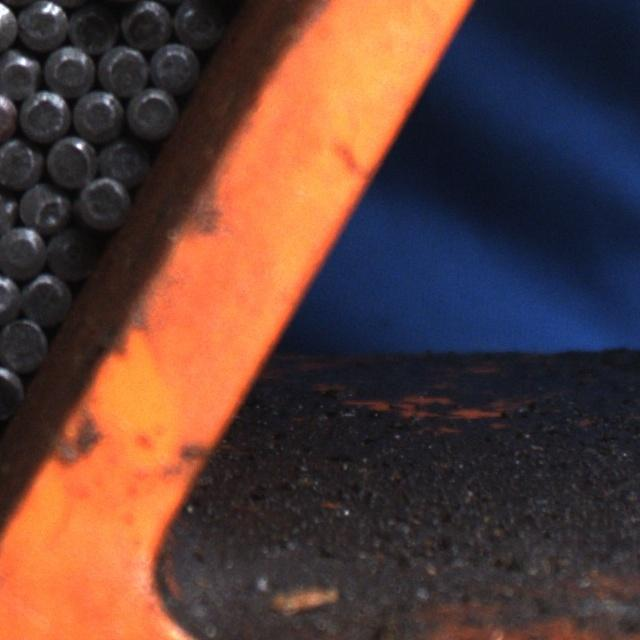tool: (72, 175, 130, 230), (71, 87, 123, 139), (22, 270, 74, 322), (45, 226, 97, 278), (43, 134, 94, 185), (98, 42, 148, 94), (44, 42, 95, 92), (18, 89, 68, 140), (126, 87, 176, 138), (67, 0, 118, 50), (93, 139, 144, 189), (20, 181, 70, 231), (121, 0, 173, 48), (0, 317, 48, 369), (19, 0, 70, 48), (173, 0, 224, 48), (150, 40, 199, 89), (0, 224, 45, 275), (0, 47, 41, 98), (0, 136, 41, 186), (0, 363, 24, 417), (0, 270, 19, 320)
